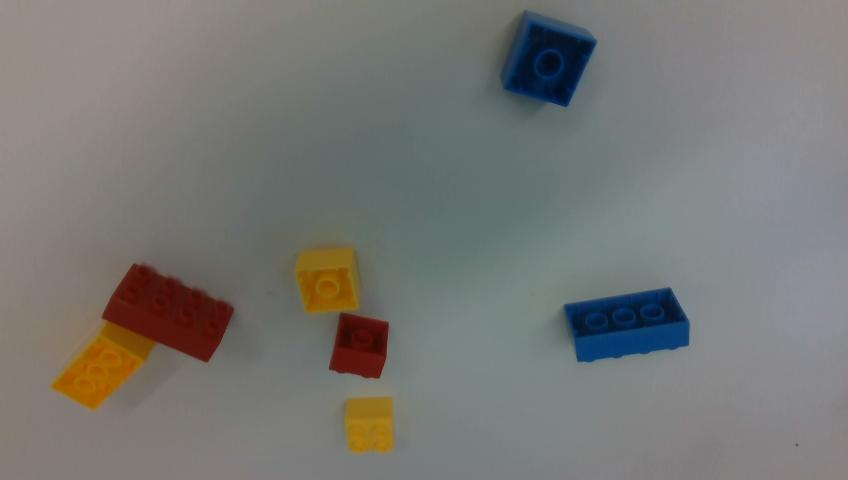2x2_blue: (499, 11, 596, 106)
2x2_red: (329, 313, 388, 377)
2x2_yellow: (295, 247, 360, 312), (344, 398, 392, 453)
4x2_blue: (564, 288, 688, 361)
4x2_red: (103, 264, 233, 361)
4x2_yellow: (52, 322, 154, 409)
